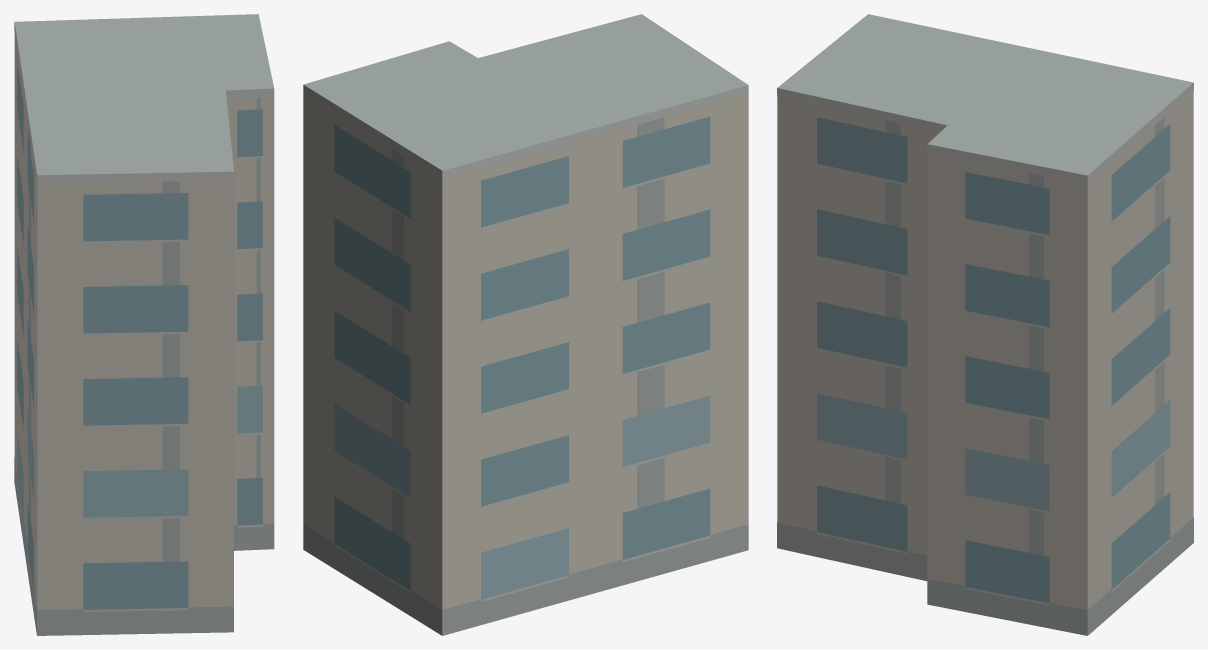
Rendered from survey-upis-32987058.glb.
3 renders of one model, left to right at view 1: azimuth 30°, elevation 25°; view 2: azimuth 150°, elevation 25°; view 3: azimuth 270°, elevation 25°, orthographic.
Visible parts, largest first — view 1: survey-upis-32987058.tmp; view 2: survey-upis-32987058.tmp; view 3: survey-upis-32987058.tmp.
Part boxes in pixels (<box>): survey-upis-32987058.tmp: <box>14,14,274,635</box>; survey-upis-32987058.tmp: <box>303,14,748,635</box>; survey-upis-32987058.tmp: <box>777,14,1193,635</box>.
Size of the model in its own units: 9.72 by 12.9 by 10.59.
